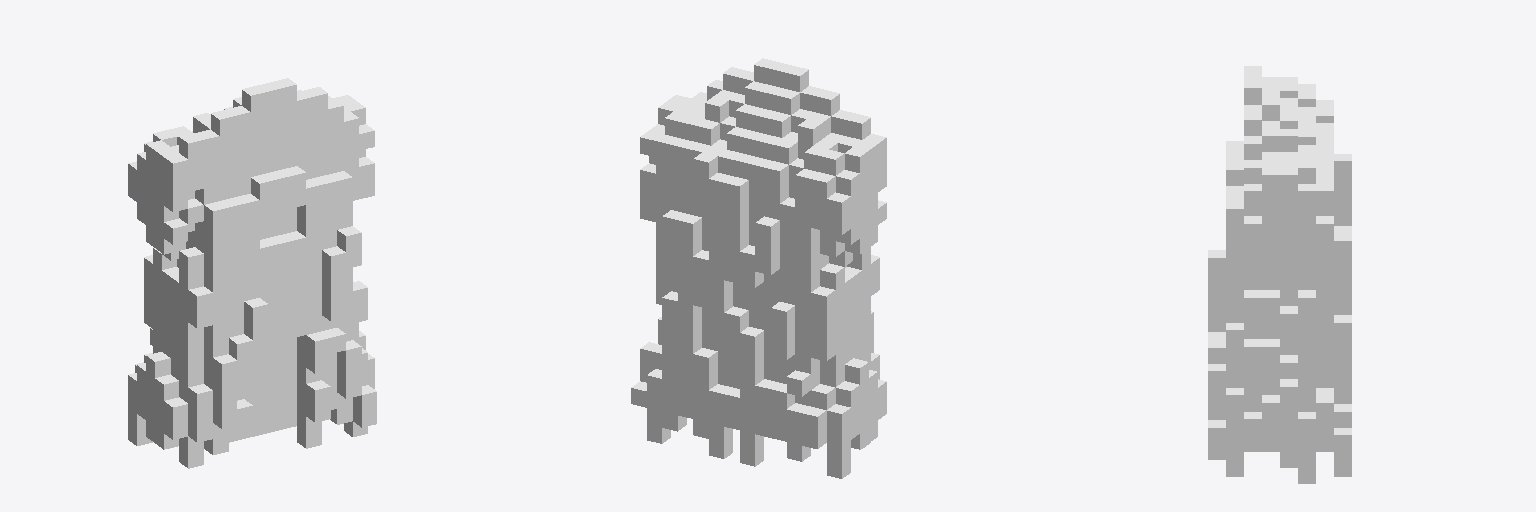
Rendered from vrach-1.obj.
The picture shows the model from 3 angles: view 1: azimuth 30°, elevation 25°; view 2: azimuth 150°, elevation 25°; view 3: azimuth 270°, elevation 25°; orthographic projection.
Visible parts, largest first — view 1: object 1; view 2: object 1; view 3: object 1.
Boxes of the visible parts, x1=… form: object 1: x1=128, y1=78, x2=376, y2=468; object 1: x1=631, y1=58, x2=886, y2=478; object 1: x1=1208, y1=66, x2=1351, y2=483.
Size of the model in its own units: 1.3 by 2.2 by 0.8.